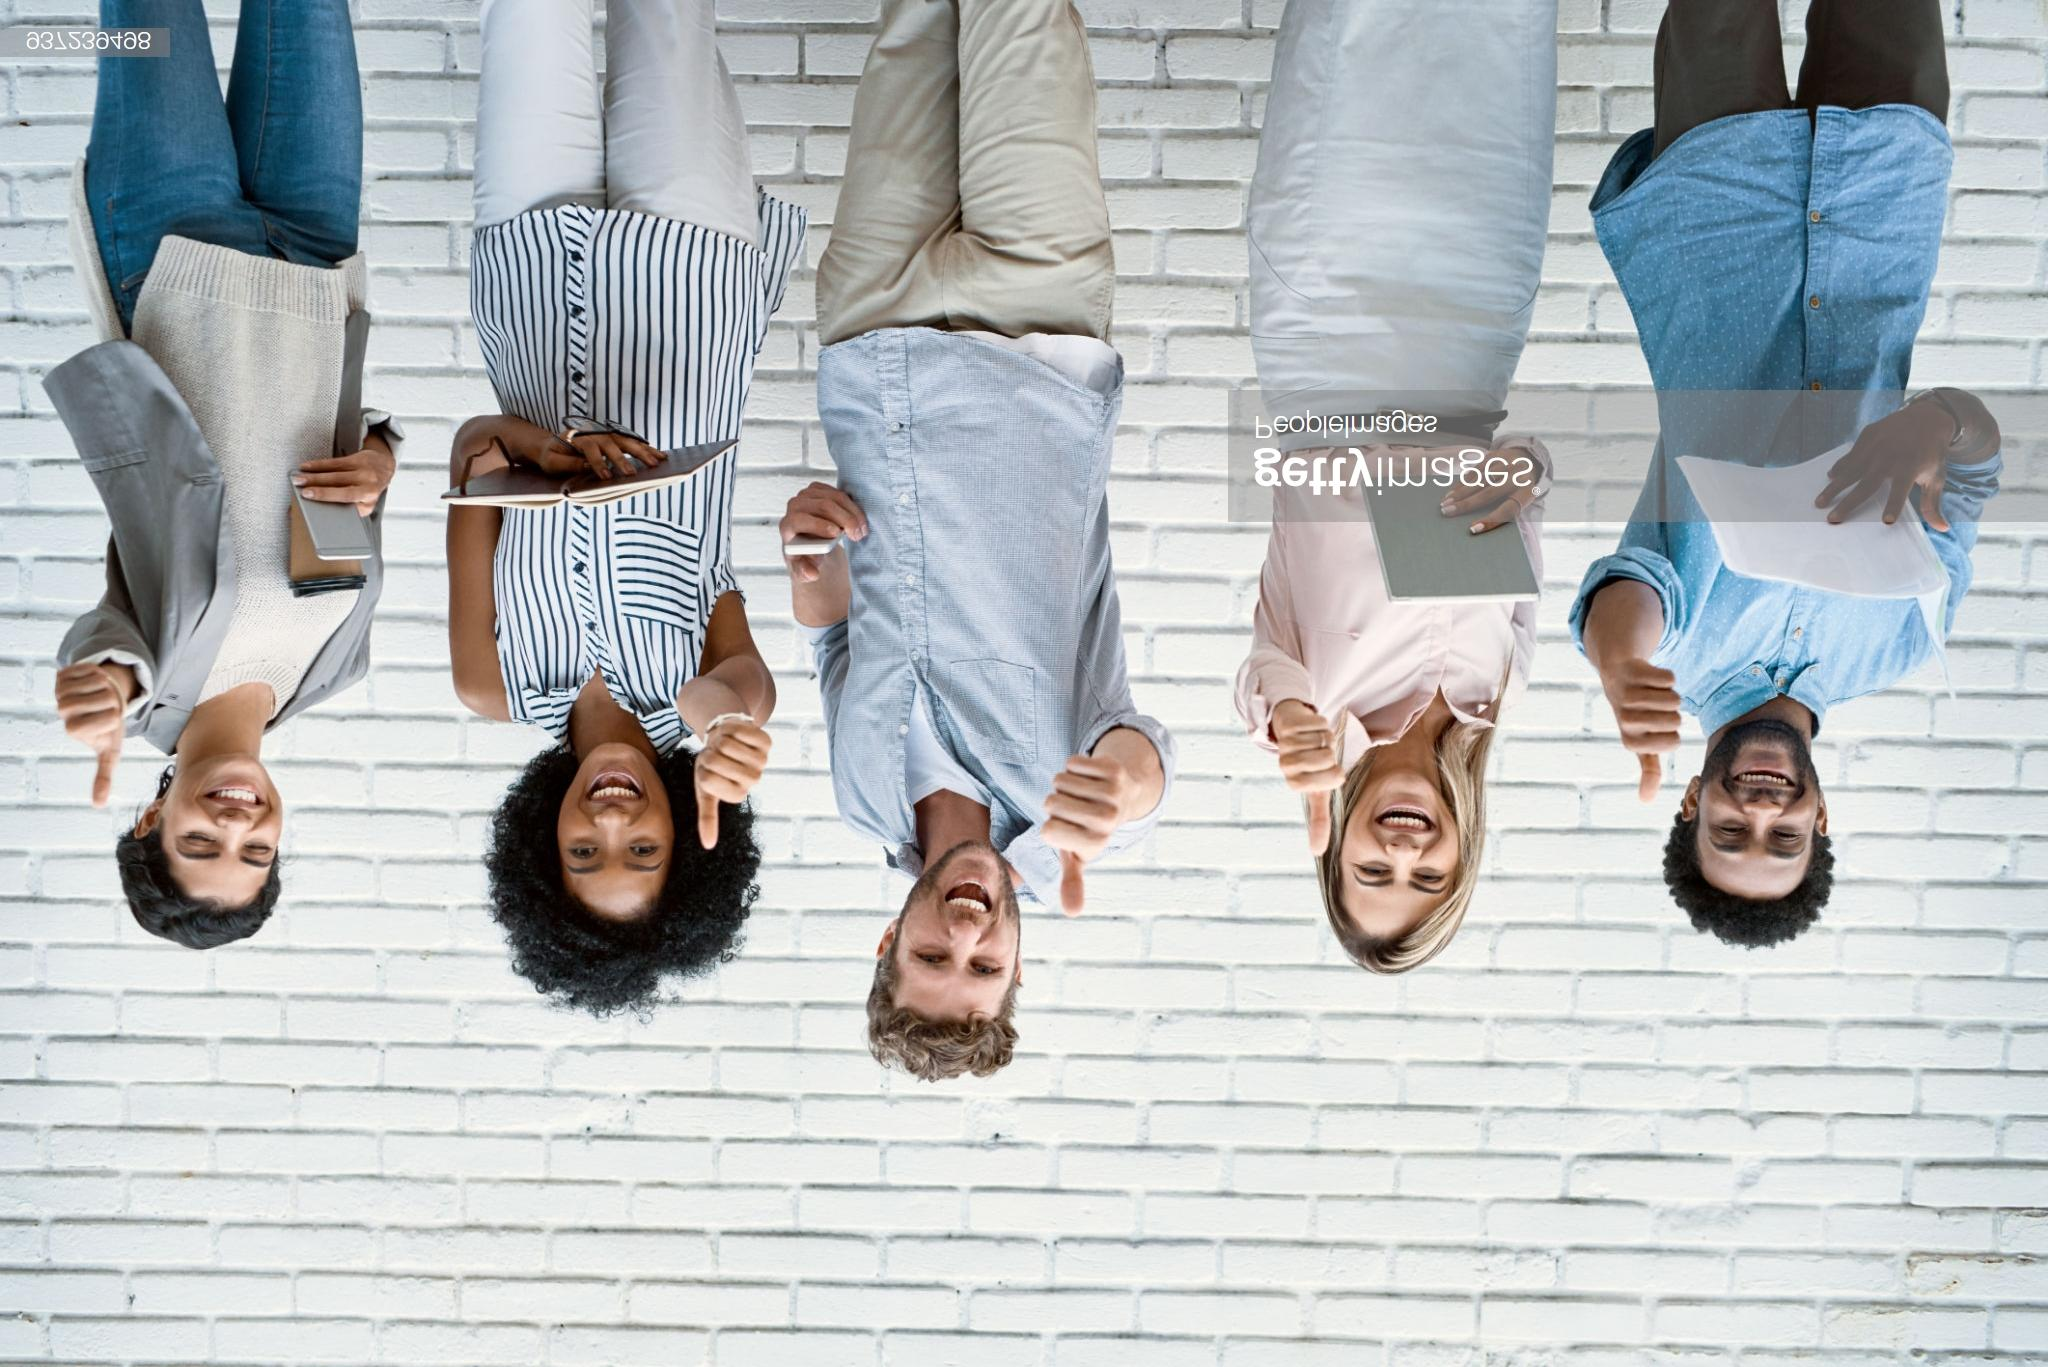thumbsdown: (1042, 757, 1125, 917), (53, 664, 124, 809), (1276, 716, 1343, 857), (695, 728, 772, 851), (1616, 667, 1680, 803)
